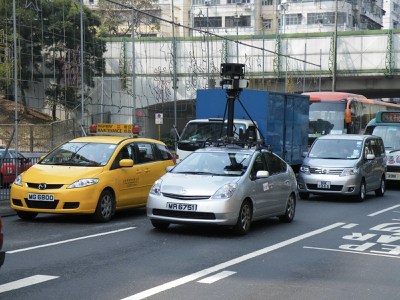licence: (168, 202, 198, 214), (29, 192, 57, 203), (313, 180, 333, 191), (385, 172, 399, 181)
